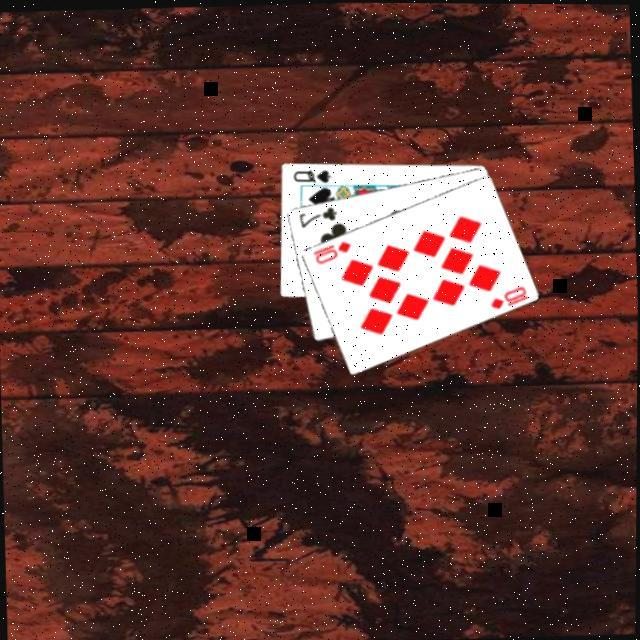10D: (484, 282, 530, 312), (307, 238, 352, 268)
7C: (293, 202, 338, 230)
QS: (287, 164, 332, 187)
